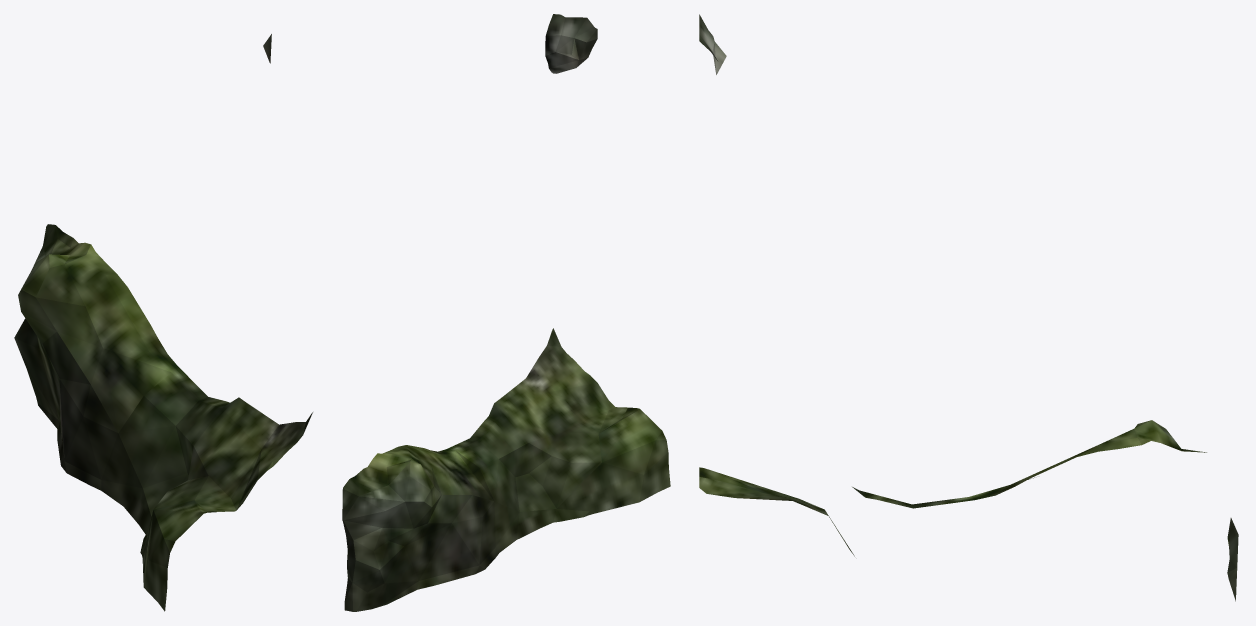
The picture shows the model from 3 angles, left to right: view 1: azimuth 30°, elevation 25°; view 2: azimuth 150°, elevation 25°; view 3: azimuth 270°, elevation 25°; orthographic projection. The views are drawn at different scales.
Bounding box in the file's own units: 0.5271 × 1.92 × 1.64.
1 material, 1 textured.
